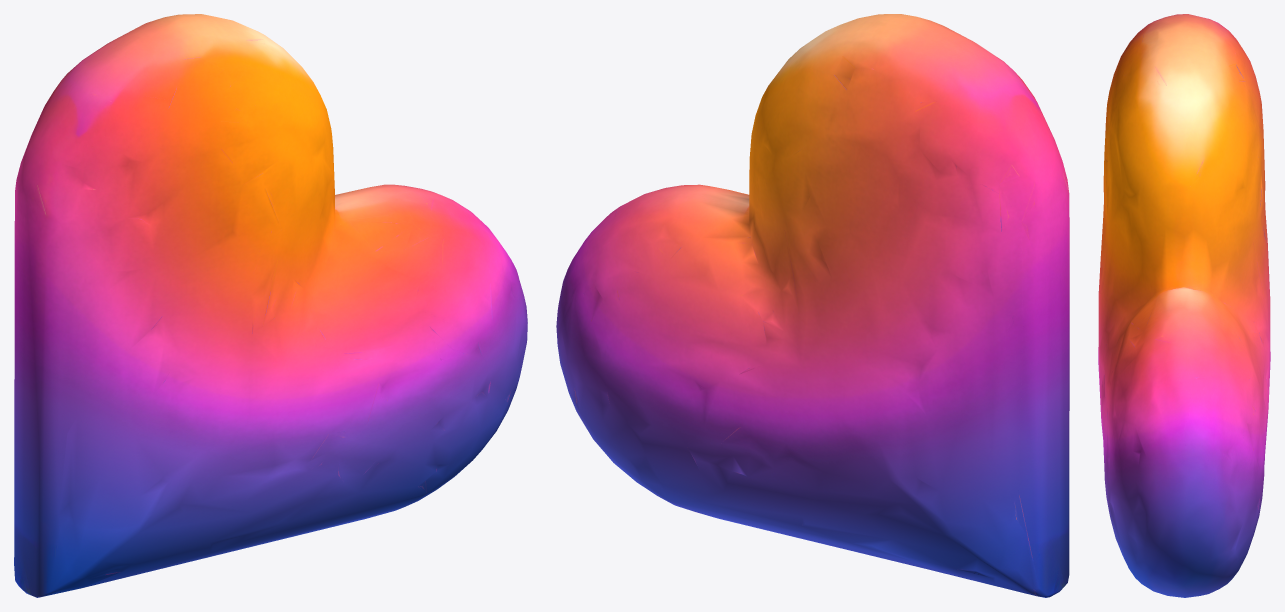
The model's file is heart.glb.
3 views of the same model, side by side, from view 1: azimuth 30°, elevation 25°; view 2: azimuth 150°, elevation 25°; view 3: azimuth 270°, elevation 25° (orthographic). The views are drawn at different scales.
Visible parts, largest first — view 1: Mesh_0; view 2: Mesh_0; view 3: Mesh_0.
Part boxes in pixels (box(x1,y1,x2,y2)): Mesh_0: box(14, 14, 527, 597); Mesh_0: box(556, 14, 1069, 597); Mesh_0: box(1098, 14, 1270, 597).
Size of the model in its own units: 1.85 by 1.91 by 0.6238.
Materials: 1 (1 with a texture image).
